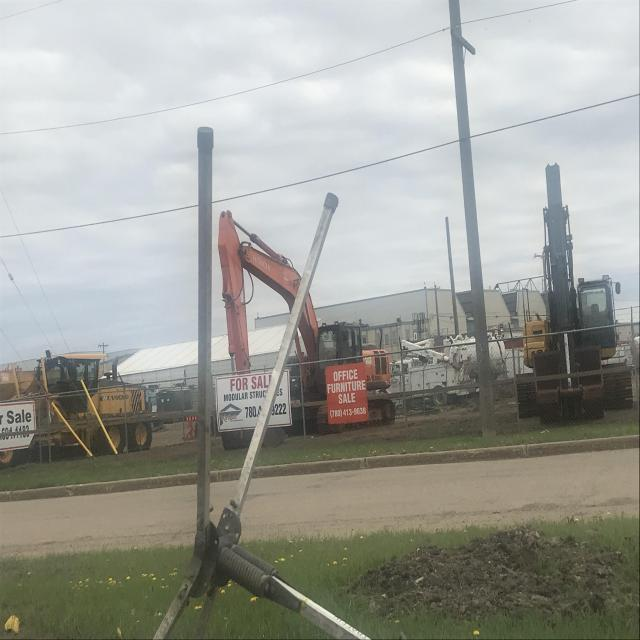Excavator: (213, 212, 400, 435), (506, 154, 636, 426)
Loader: (6, 351, 150, 456)
